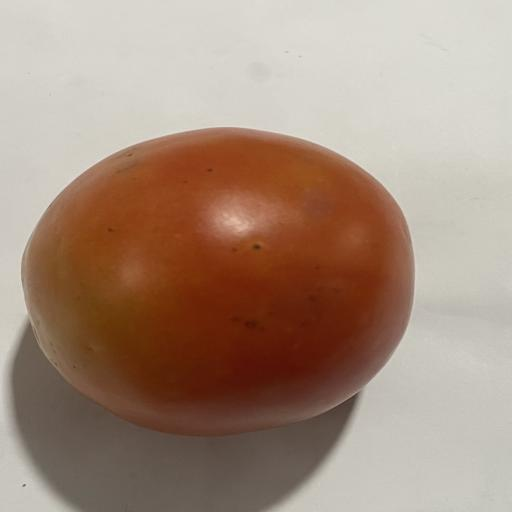ripe: (23, 128, 414, 435)
